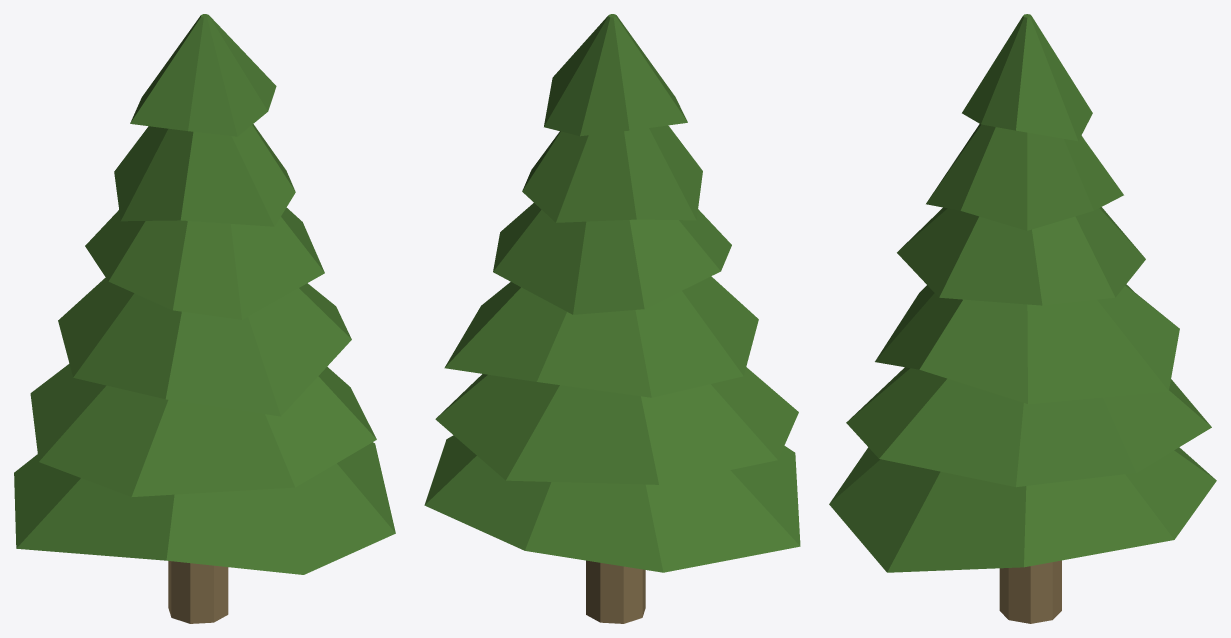
File: Tree01.fbx
3 renders of one model, left to right at view 1: azimuth 30°, elevation 25°; view 2: azimuth 150°, elevation 25°; view 3: azimuth 270°, elevation 25°, orthographic.
Parts seen in each view (by area): view 1: Leaves, Trunk; view 2: Leaves, Trunk; view 3: Leaves, Trunk.
Boxes of the visible parts, box(x1,y1,x2,y2) form: Leaves: box(14, 14, 395, 574); Trunk: box(168, 561, 228, 623); Leaves: box(424, 14, 800, 572); Trunk: box(586, 560, 645, 623); Leaves: box(829, 14, 1216, 572); Trunk: box(999, 560, 1061, 623).
Size of the model in its own units: 5.46 by 8.7 by 5.12.
